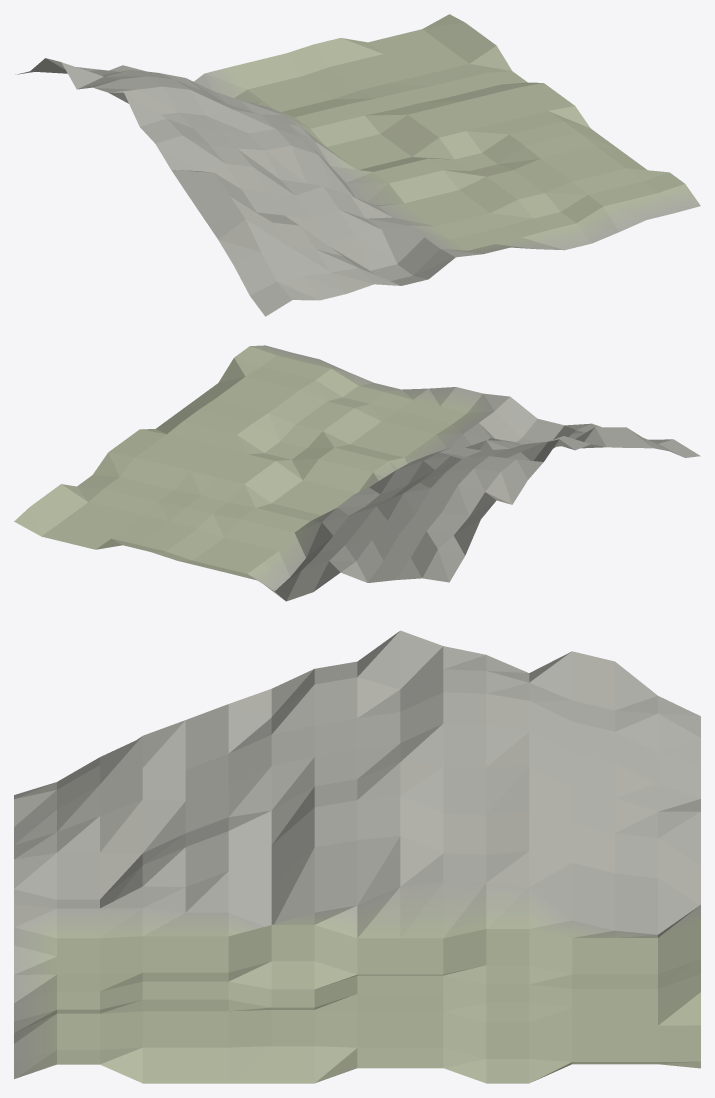
3 renders of one model, top to bottom at view 1: azimuth 30°, elevation 25°; view 2: azimuth 150°, elevation 25°; view 3: azimuth 270°, elevation 25°, orthographic. The views are drawn at different scales.
Size of the model in its own units: 32 by 9.18 by 32.
